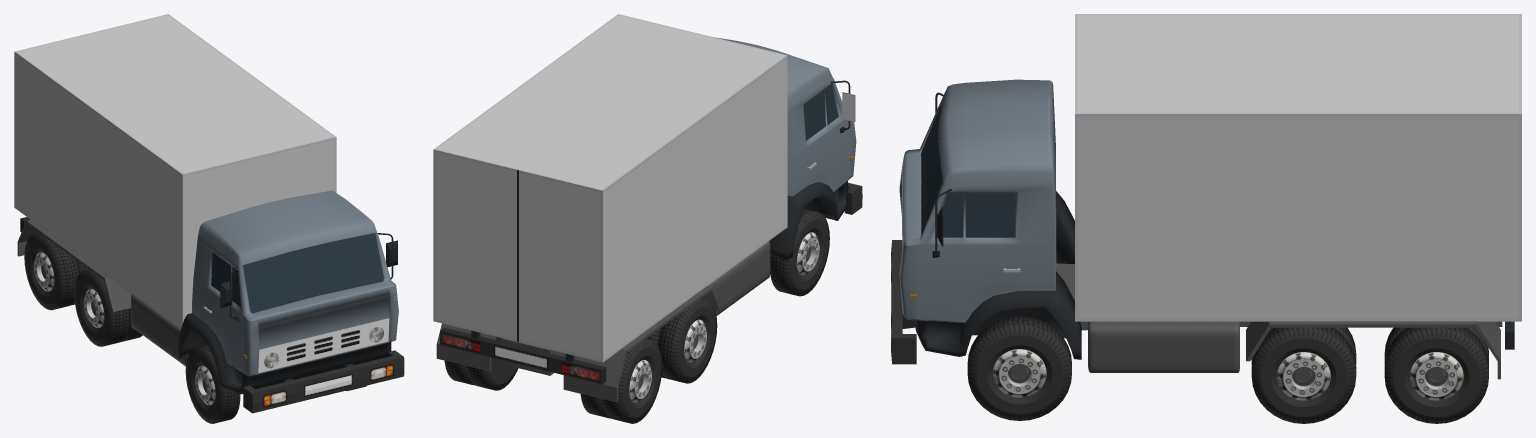
File: truck.glb
3 views of the same model, side by side, from view 1: azimuth 30°, elevation 25°; view 2: azimuth 150°, elevation 25°; view 3: azimuth 270°, elevation 25° (orthographic). The views are drawn at different scales.
Parts seen in each view (by area): view 1: trim-white-container-body, paint-red-cabin-body, glass-glass-body, trim-textured-body, trim-textured-(False, True), rubber-black-plastic-body, alloy-grey-metalic-frame-body, trim-grey-metal-body, trim-textured-(False, False), alloy-grey-metal-wheels-(False, True), rubber-black-metal-body, alloy-grey-metal-wheels-(False, False); view 2: trim-white-container-body, paint-red-cabin-body, trim-grey-metal-body, trim-textured-(False, True), alloy-grey-metalic-frame-body, rubber-black-plastic-body, trim-textured-body, trim-textured-(False, False), alloy-grey-metal-wheels-(False, True), glass-glass-body, trim-textured-(True, True), alloy-grey-metal-wheels-(False, False) (+1 smaller); view 3: trim-white-container-body, paint-red-cabin-body, trim-textured-(True, True), trim-grey-metal-body, alloy-grey-metalic-frame-body, rubber-black-plastic-body, trim-textured-(True, False), glass-glass-body, alloy-grey-metal-wheels-(True, True), alloy-grey-metal-wheels-(True, False), trim-textured-body, rubber-black-metal-body.
Boxes of the visible parts, <box> form: trim-white-container-body: <box>15,15,334,326</box>; paint-red-cabin-body: <box>192,190,398,376</box>; glass-glass-body: <box>211,233,383,313</box>; trim-textured-body: <box>243,318,404,413</box>; trim-textured-(False, True): <box>24,233,142,346</box>; rubber-black-plastic-body: <box>20,217,391,394</box>; alloy-grey-metalic-frame-body: <box>14,14,336,329</box>; trim-grey-metal-body: <box>17,220,188,366</box>; trim-textured-(False, False): <box>185,345,240,423</box>; alloy-grey-metal-wheels-(False, True): <box>33,252,104,327</box>; rubber-black-metal-body: <box>220,233,397,382</box>; alloy-grey-metal-wheels-(False, False): <box>195,365,215,405</box>; trim-white-container-body: <box>435,15,786,359</box>; paint-red-cabin-body: <box>716,37,856,196</box>; trim-grey-metal-body: <box>436,241,770,402</box>; trim-textured-(False, True): <box>580,298,717,423</box>; alloy-grey-metalic-frame-body: <box>433,14,787,362</box>; rubber-black-plastic-body: <box>440,170,848,384</box>; trim-textured-body: <box>440,182,862,384</box>; trim-textured-(False, False): <box>770,209,829,296</box>; alloy-grey-metal-wheels-(False, True): <box>629,319,706,403</box>; glass-glass-body: <box>803,84,838,140</box>; trim-textured-(True, True): <box>444,360,518,390</box>; alloy-grey-metal-wheels-(False, False): <box>796,232,819,275</box>; trim-white-container-body: <box>1078,15,1518,318</box>; paint-red-cabin-body: <box>899,79,1056,323</box>; trim-textured-(True, True): <box>1251,327,1488,423</box>; trim-grey-metal-body: <box>1056,263,1502,379</box>; alloy-grey-metalic-frame-body: <box>1075,14,1521,321</box>; rubber-black-plastic-body: <box>914,191,1514,359</box>; trim-textured-(True, False): <box>967,316,1071,420</box>; glass-glass-body: <box>921,102,1015,237</box>; alloy-grey-metal-wheels-(True, True): <box>1277,352,1463,400</box>; alloy-grey-metal-wheels-(True, False): <box>993,349,1046,397</box>; trim-textured-body: <box>891,240,916,364</box>; rubber-black-metal-body: <box>902,92,951,328</box>.
Bounding box in the file's own units: 2.72 × 3.4 × 6.3.
Materials: 11 (2 with a texture image).
